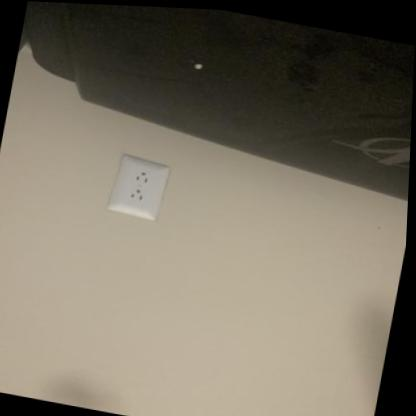OUTLET: (109, 155, 170, 221)
